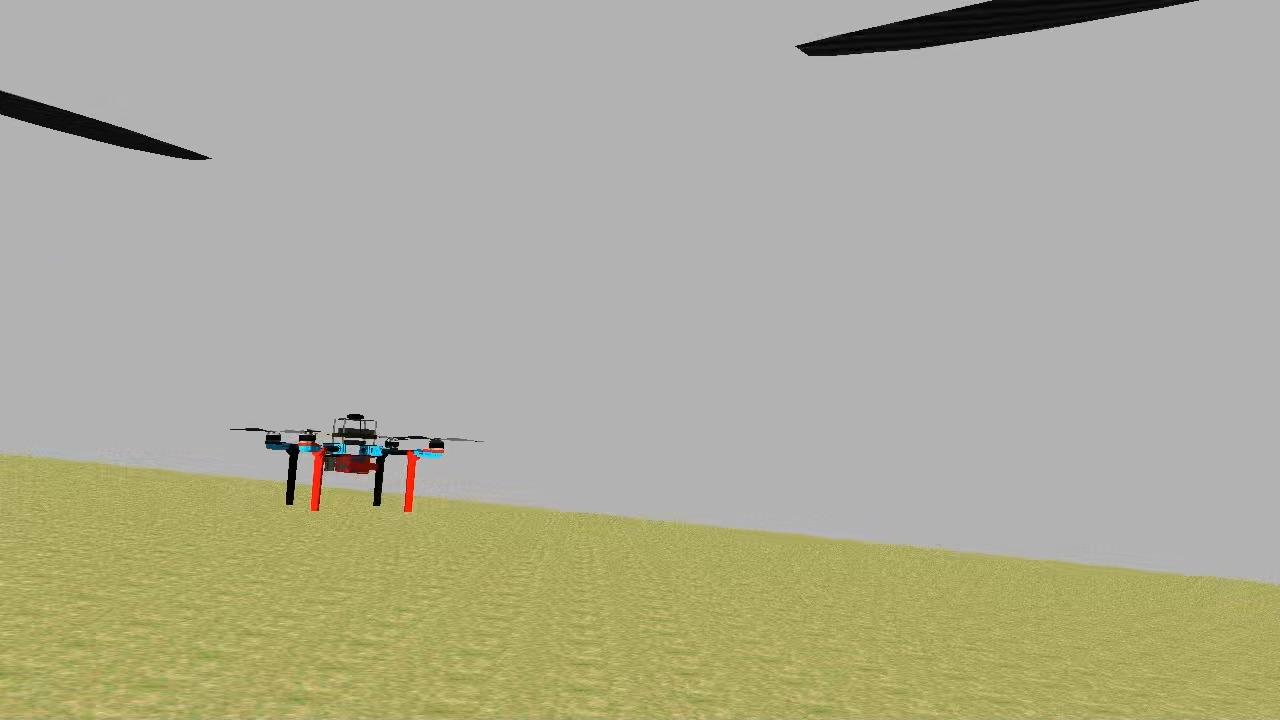UAV: (260, 408, 452, 514)
